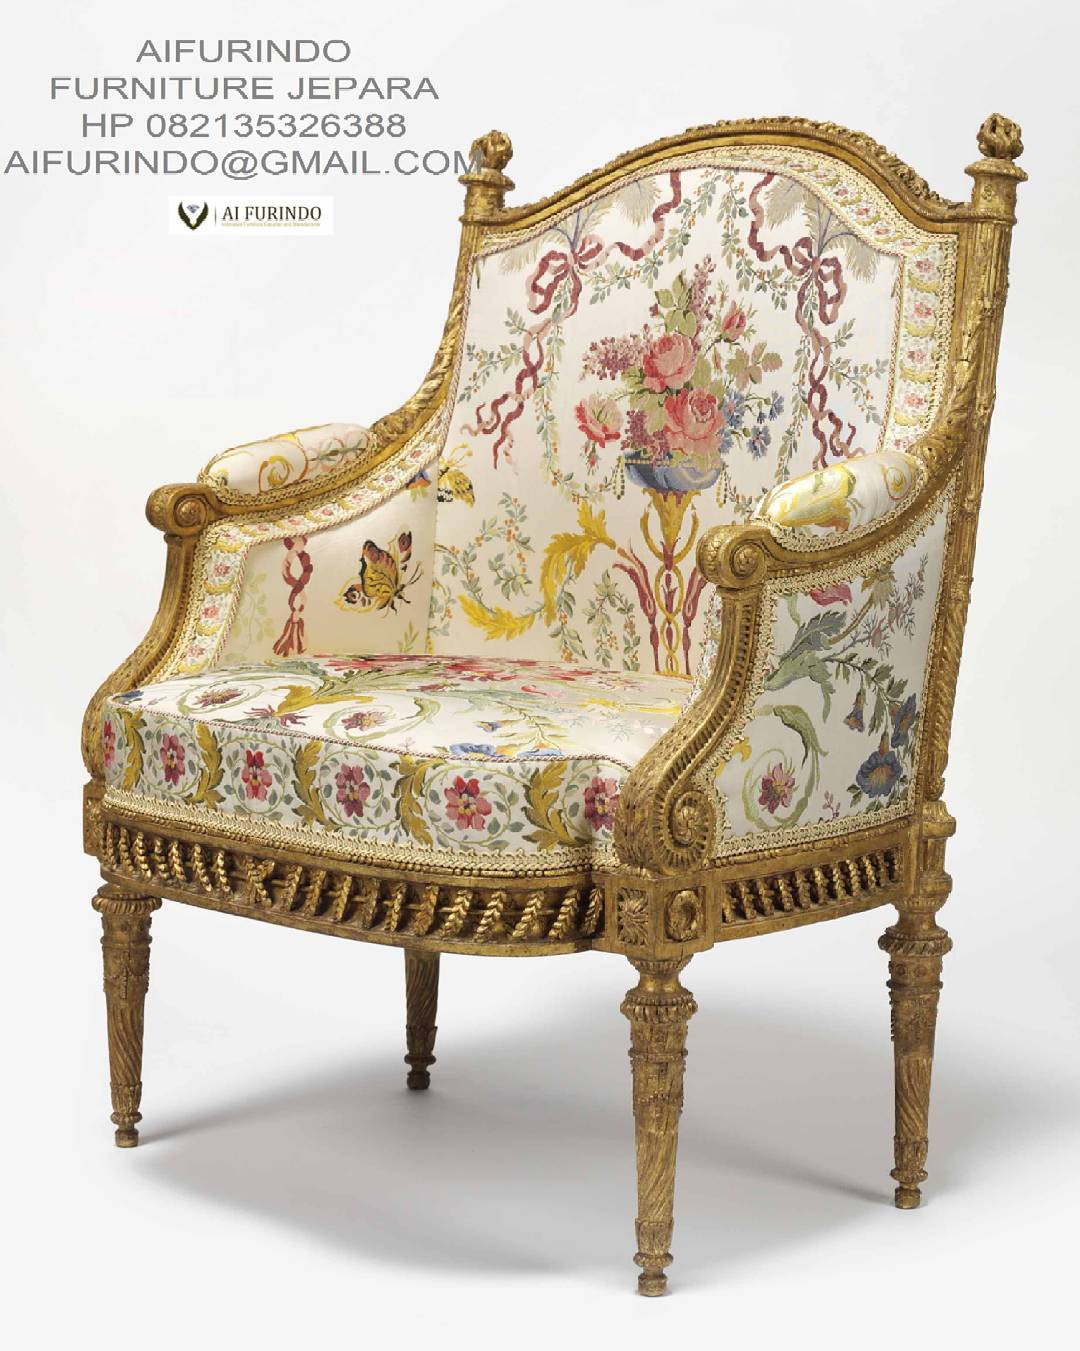Carving Chair: (102, 128, 1000, 1232)
